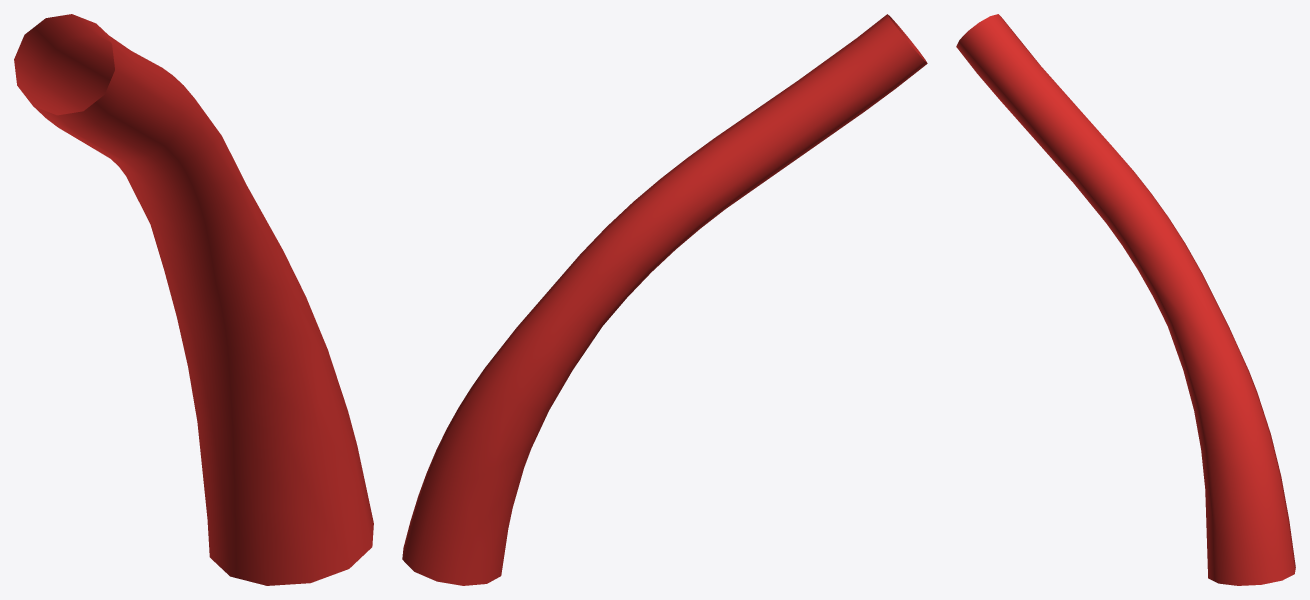
File: circulatorio-posterior-division-of-retromandibular-vein-l.glb
3 renders of one model, left to right at view 1: azimuth 30°, elevation 25°; view 2: azimuth 150°, elevation 25°; view 3: azimuth 270°, elevation 25°, orthographic. The views are drawn at different scales.
Parts seen in each view (by area): view 1: Posterior division of retromandibular vein.l; view 2: Posterior division of retromandibular vein.l; view 3: Posterior division of retromandibular vein.l.
Boxes of the visible parts, bbox=[...] form: Posterior division of retromandibular vein.l: bbox=[14, 14, 373, 585]; Posterior division of retromandibular vein.l: bbox=[402, 14, 927, 585]; Posterior division of retromandibular vein.l: bbox=[956, 14, 1295, 585].
Bounding box in the file's own units: 0.0105 × 0.0141 × 0.00982.
